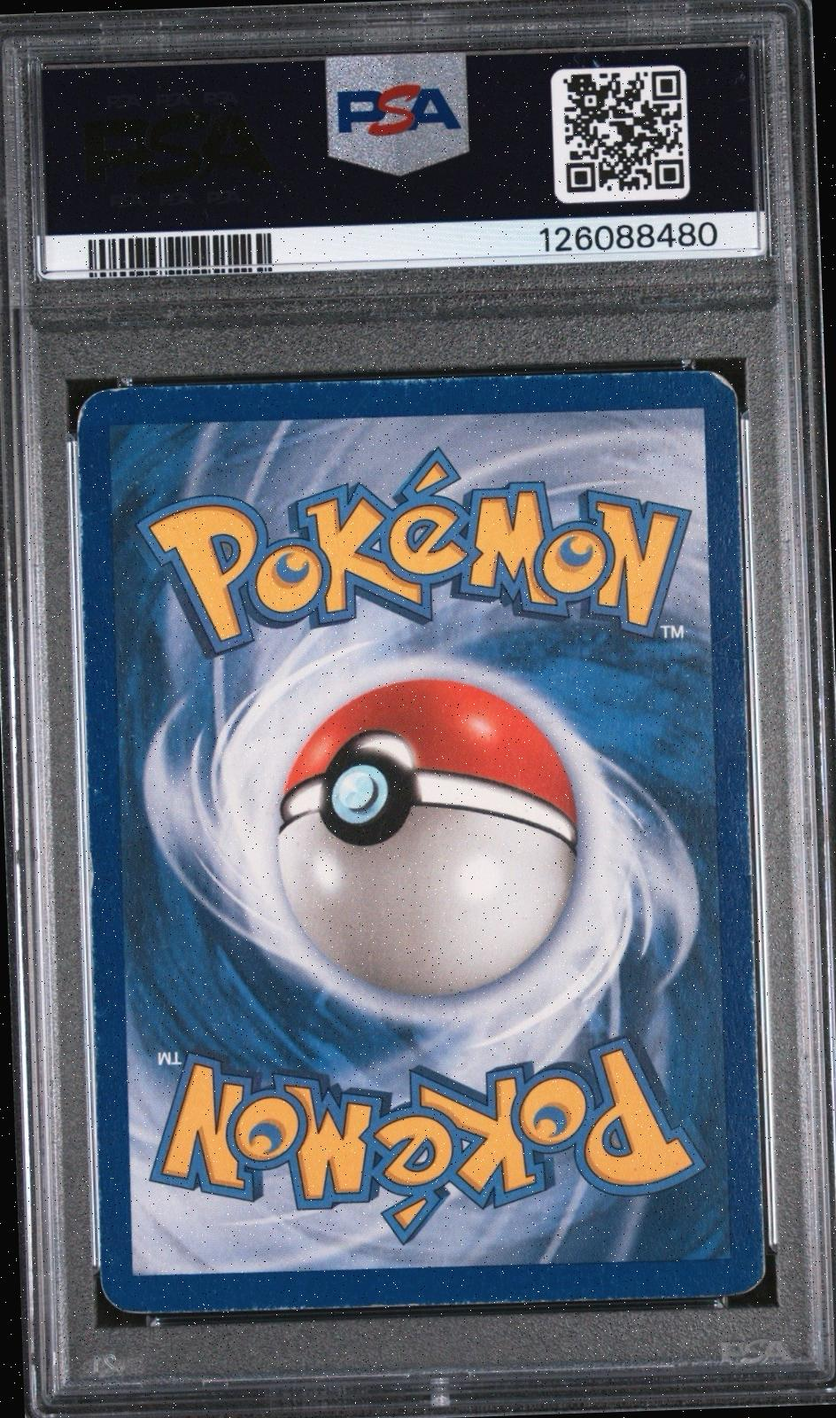card-2UtV: (76, 369, 766, 1314)
